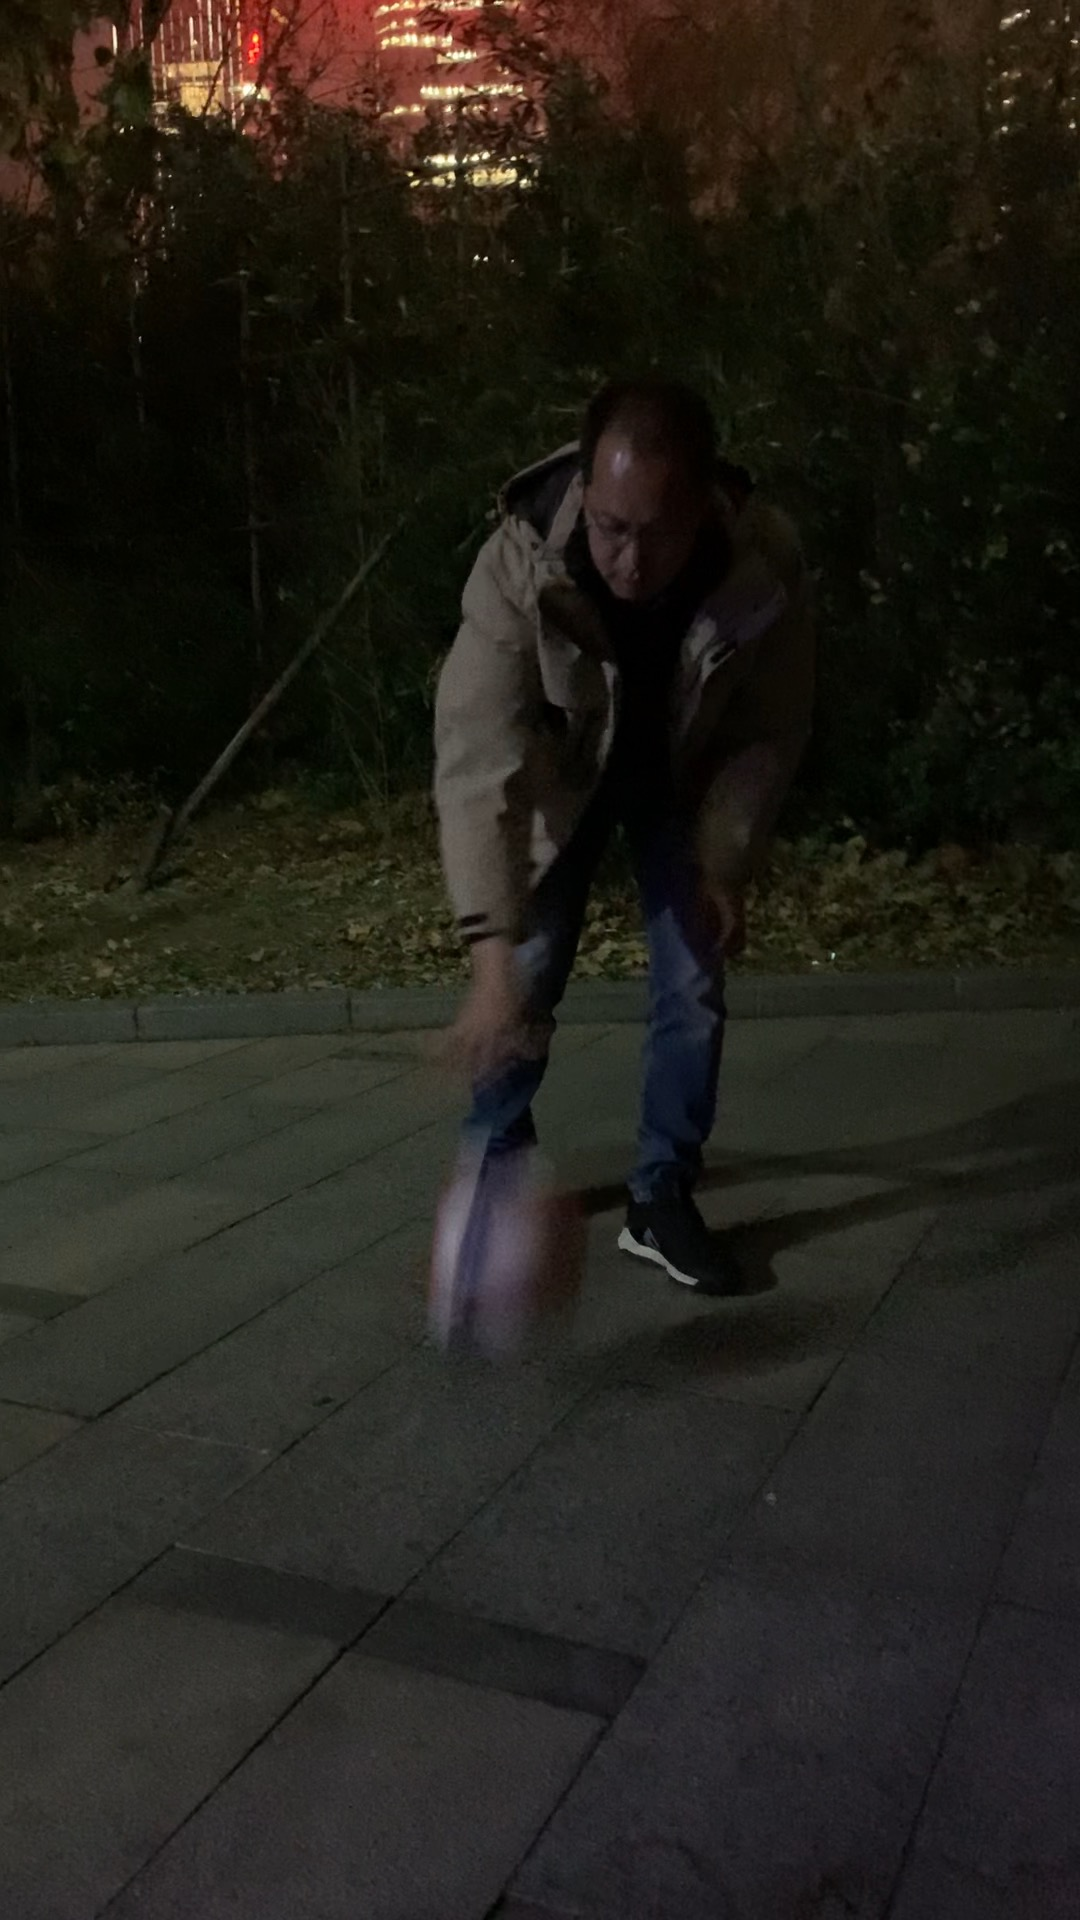ball: (434, 1170, 591, 1342)
